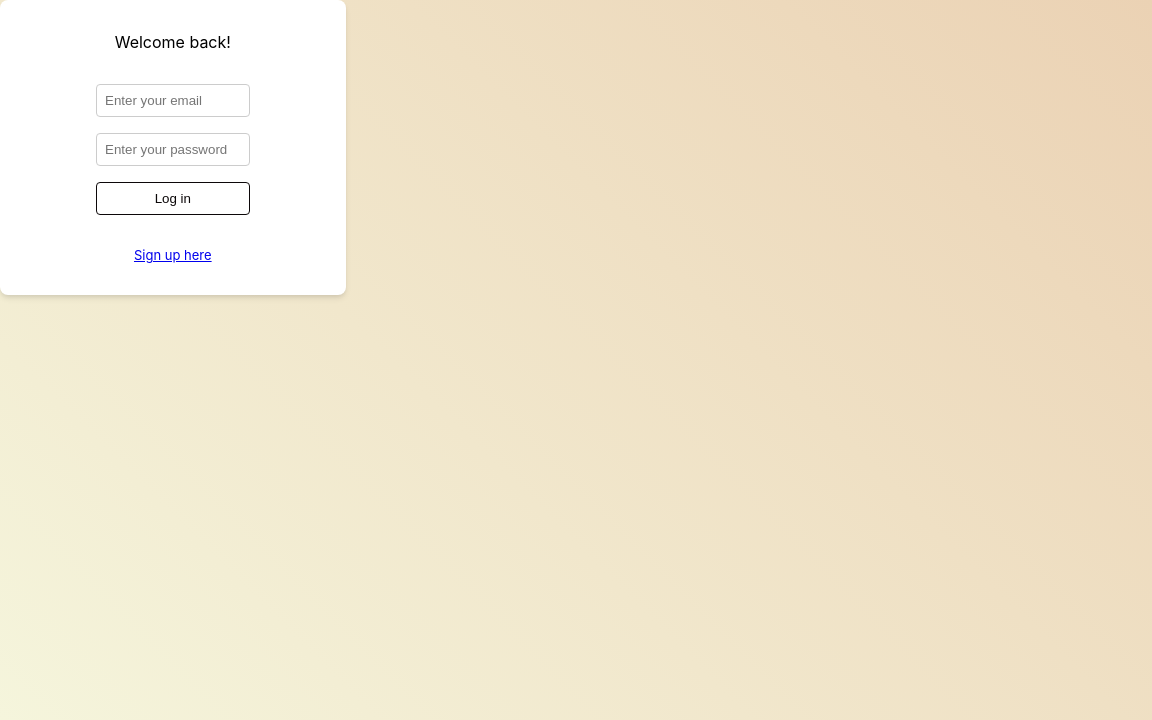
Test case: SigninForm Component › affiche un message d'erreur si l'authentification échoue
This screenshot has width=1152, height=720.
Type "wrong@example.com" into the field with placeholder "Enter your email" at [173, 100], box [96, 84, 250, 117]
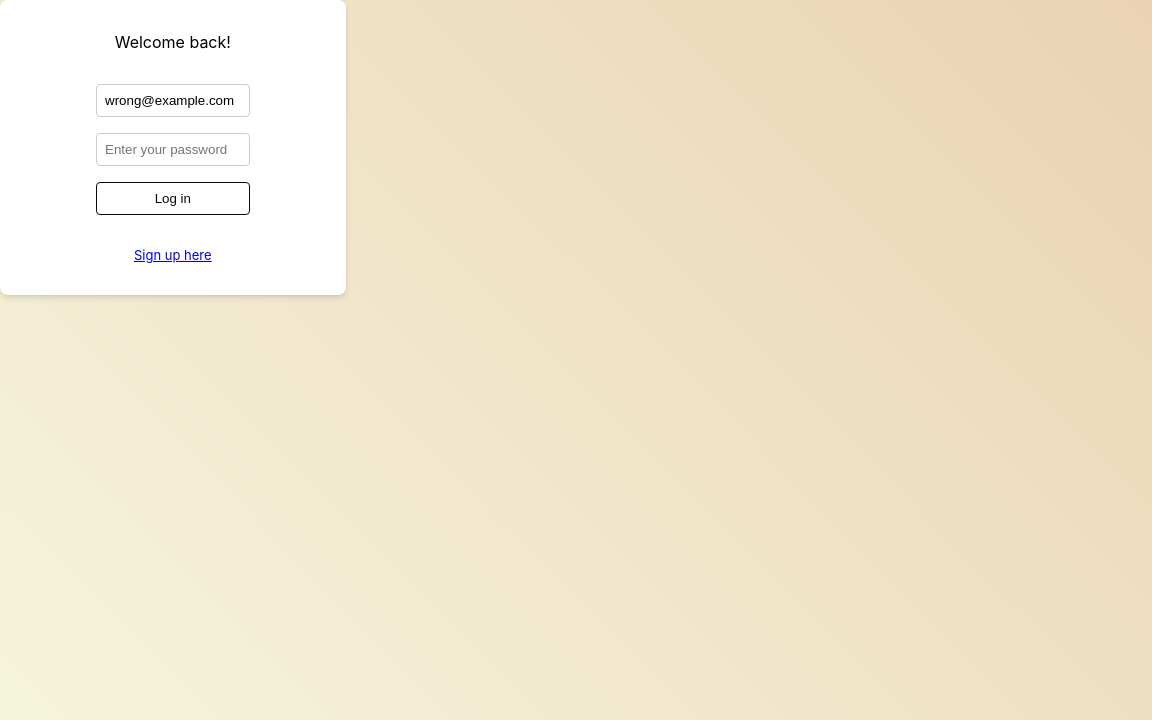
Type "wrongpassword" into the password field with placeholder "Enter your password" at [173, 150], box [96, 133, 250, 166]
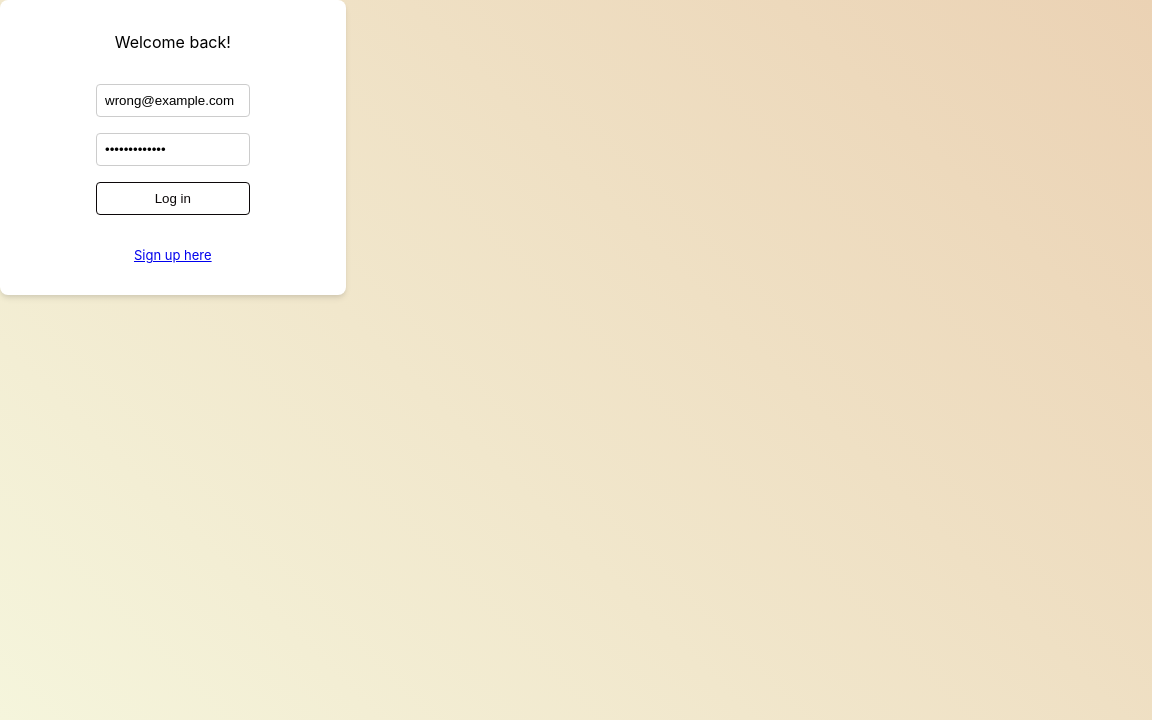
Click the button "Log in" at [173, 198], box [96, 182, 250, 215]
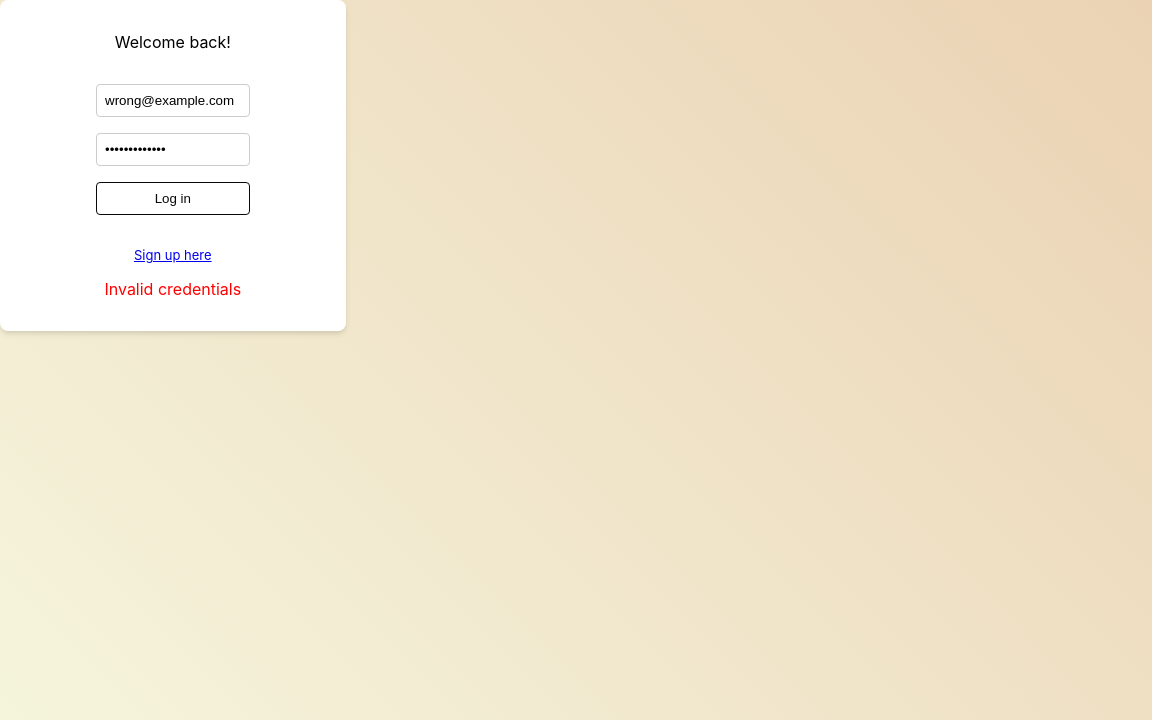
Result: the text "Invalid credentials" is shown at [104, 279, 241, 299]
